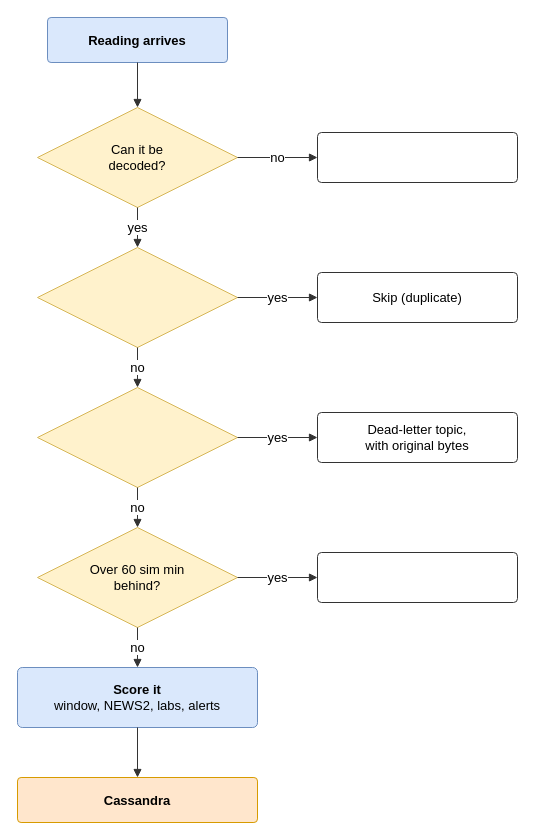
The diagram is 535 pixels wide and 840 high, and some of its shapes have lost their labels. Each missing label, with the box of its shape:
Dead-letter topic: (316, 132, 518, 182)
Late topic, stored, not scored: (316, 552, 518, 602)
Physically impossible?: (36, 386, 238, 488)
Seen this id before?: (36, 246, 238, 348)
